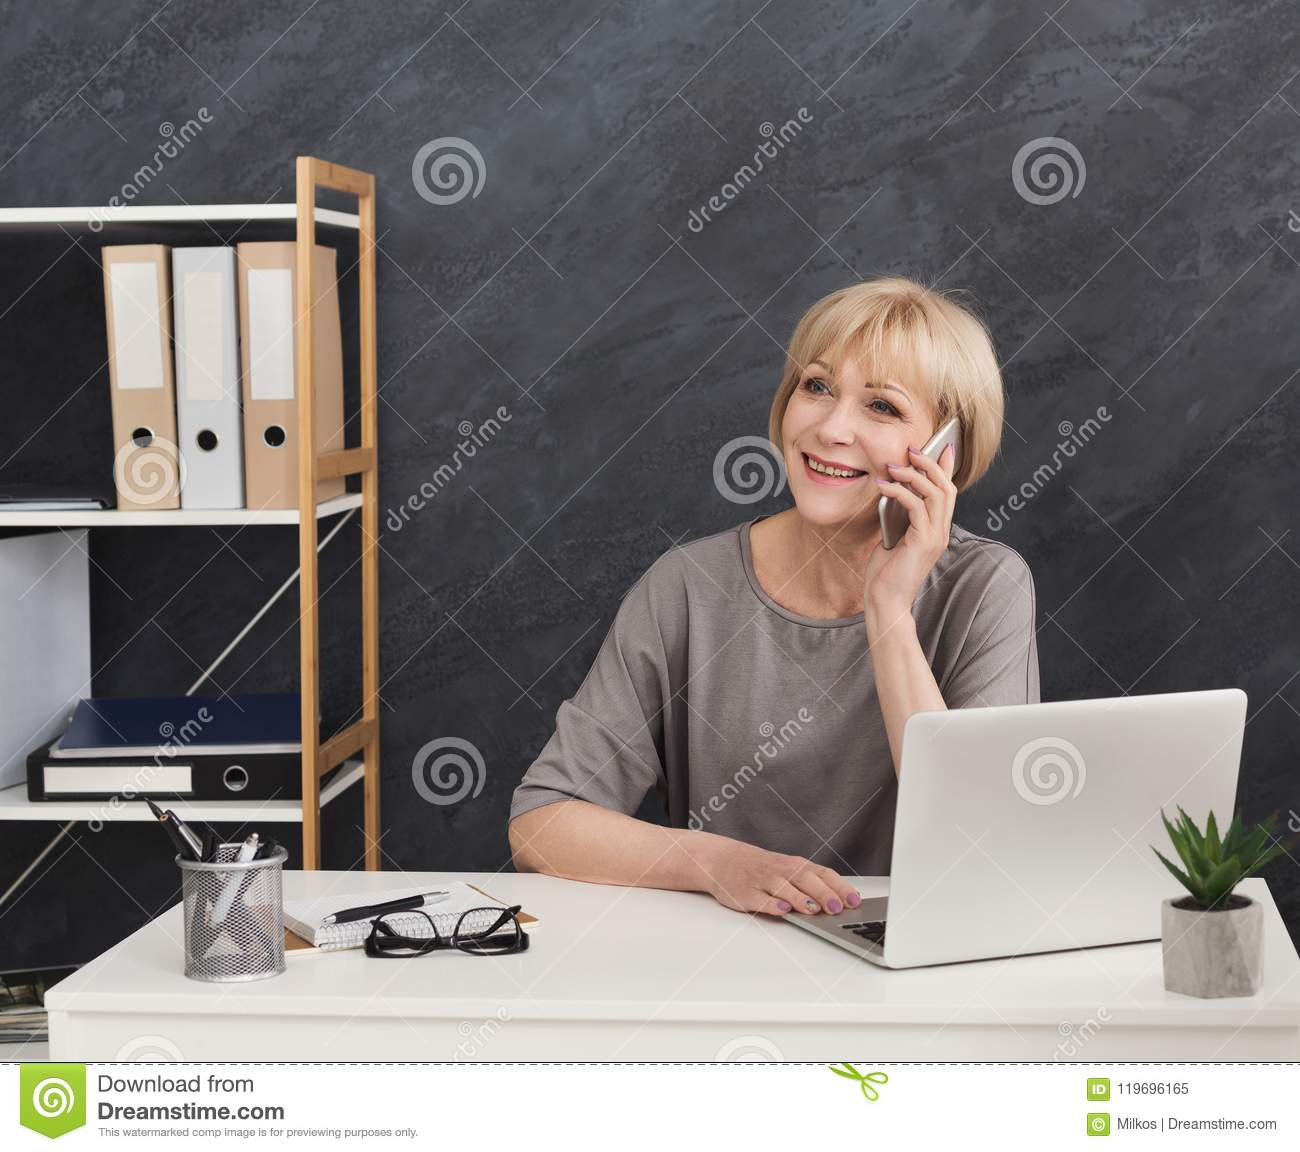phone: (877, 414, 965, 545)
talk: (780, 357, 967, 617)
